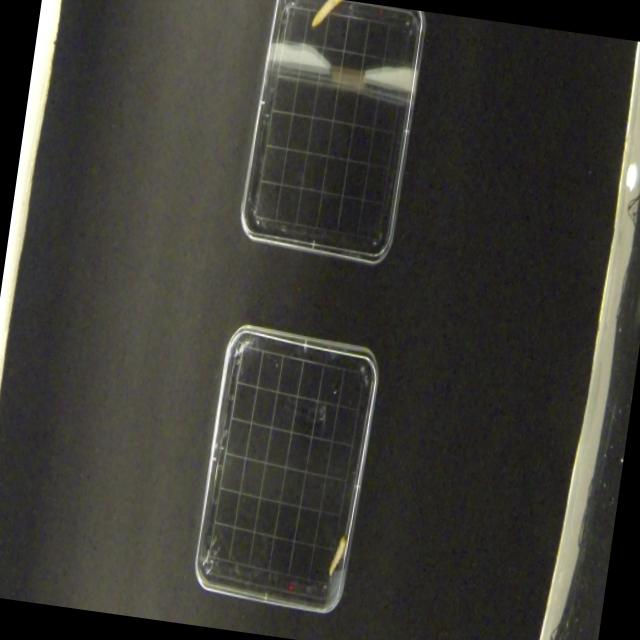larva: (326, 532, 348, 578)
